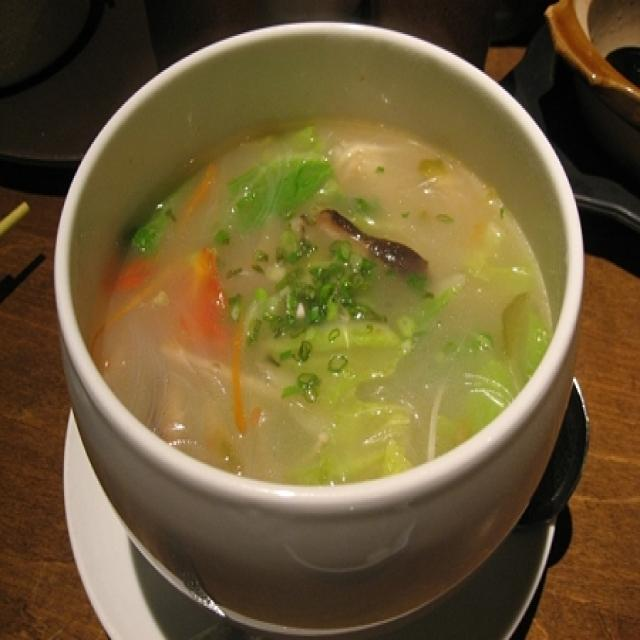汤锅炖物: (40, 11, 593, 640)
